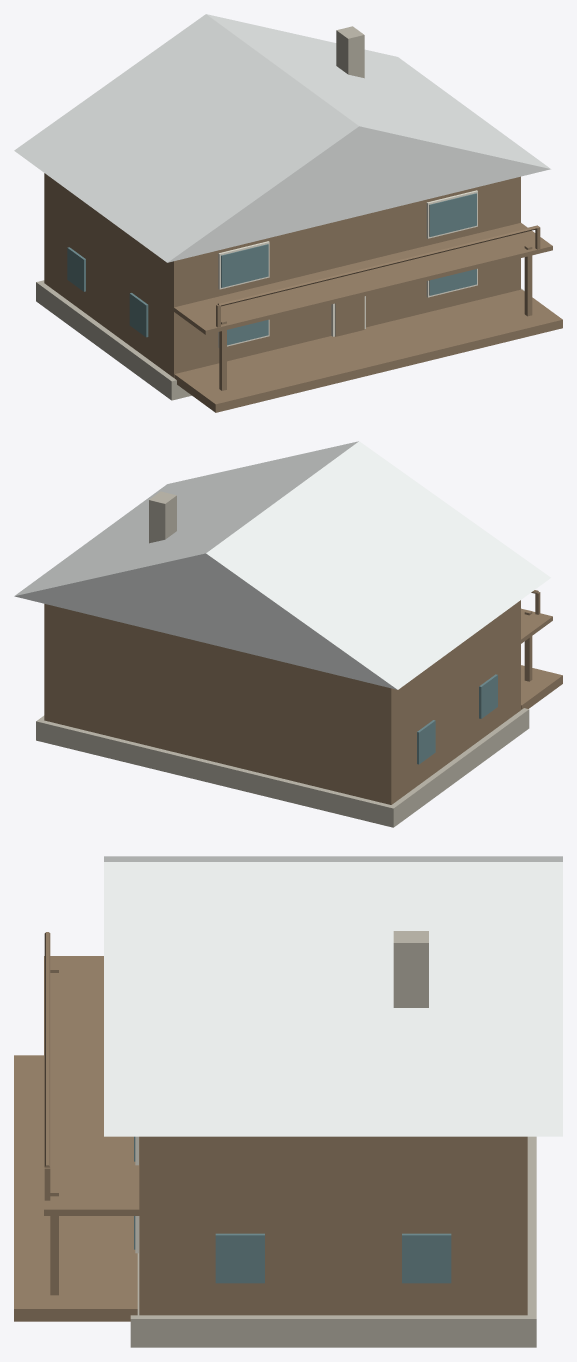
3 views of the same model, one above another, from view 1: azimuth 30°, elevation 25°; view 2: azimuth 150°, elevation 25°; view 3: azimuth 270°, elevation 25° (orthographic). The views are drawn at different scales.
Bounding box in the file's own units: 18.8 × 11.1 × 15.55.
